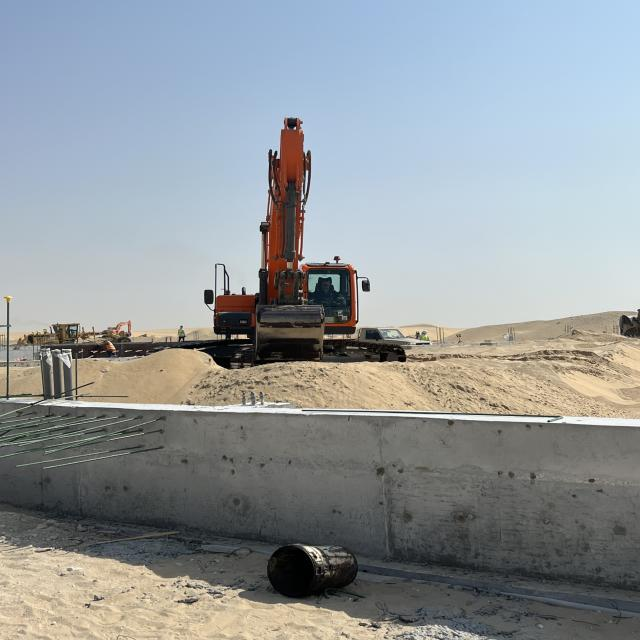Excavator: (200, 112, 406, 386)
